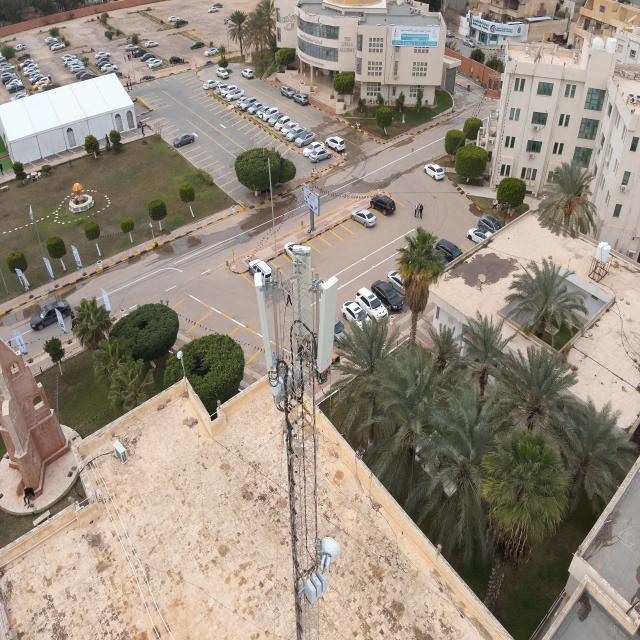antenna: (251, 254, 280, 374), (314, 273, 343, 374), (288, 241, 313, 345)
lighnig-rad: (262, 148, 277, 255)
microware-dish: (317, 534, 344, 572)
power-box: (304, 566, 329, 607)
